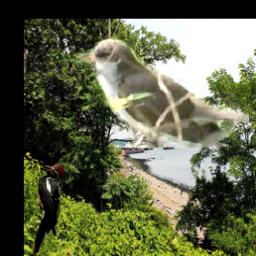Cuckoo: (76, 37, 249, 149)
Woodpecker: (33, 164, 64, 255)
